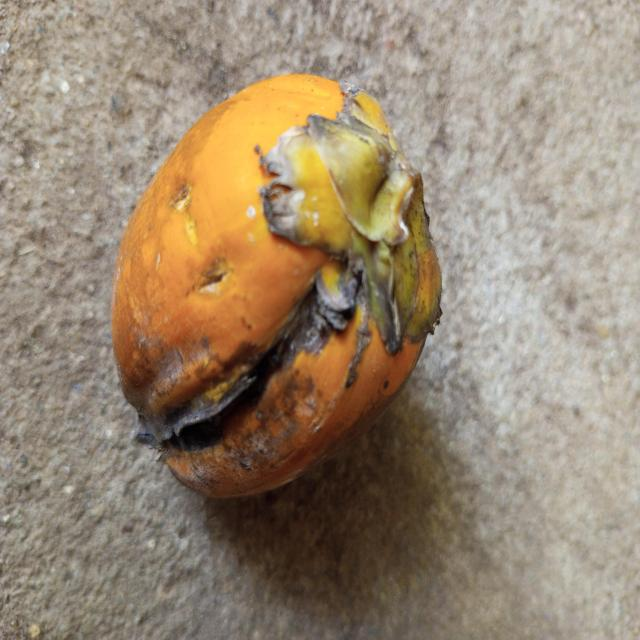damaged: (111, 73, 443, 503)
